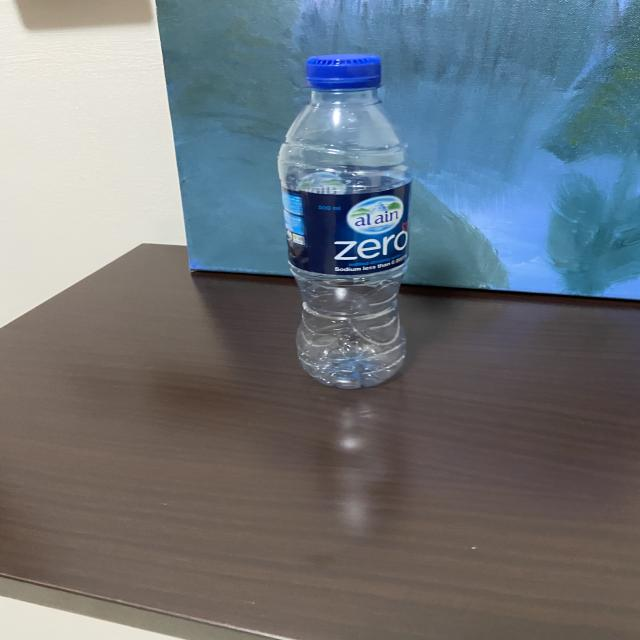bottle: (278, 52, 421, 390)
